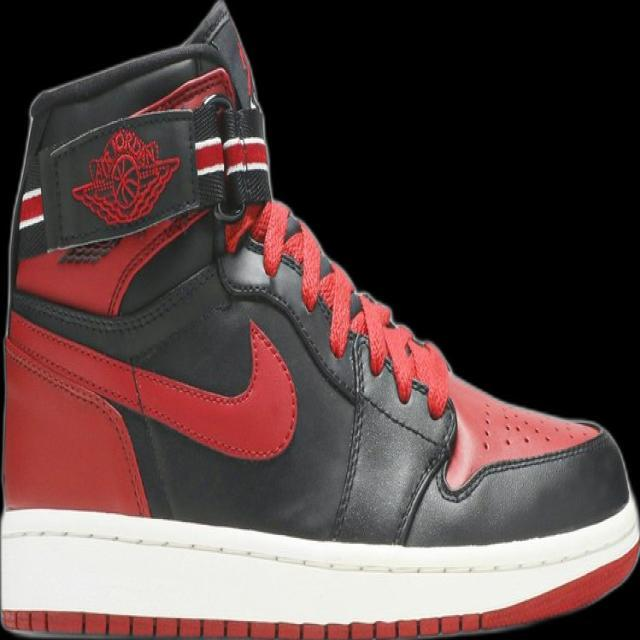J1_InsoleChar: (0, 0, 639, 639)
J1_ShoeLogo: (41, 66, 242, 260), (69, 125, 181, 227)
J1_StitchPattern: (240, 198, 600, 461), (1, 501, 637, 637), (247, 200, 453, 421), (1, 518, 637, 578), (329, 287, 454, 536), (249, 199, 356, 358), (1, 608, 483, 639), (349, 288, 452, 418), (188, 93, 273, 212), (330, 331, 370, 536), (474, 397, 601, 455), (475, 400, 546, 452), (476, 400, 494, 452)
